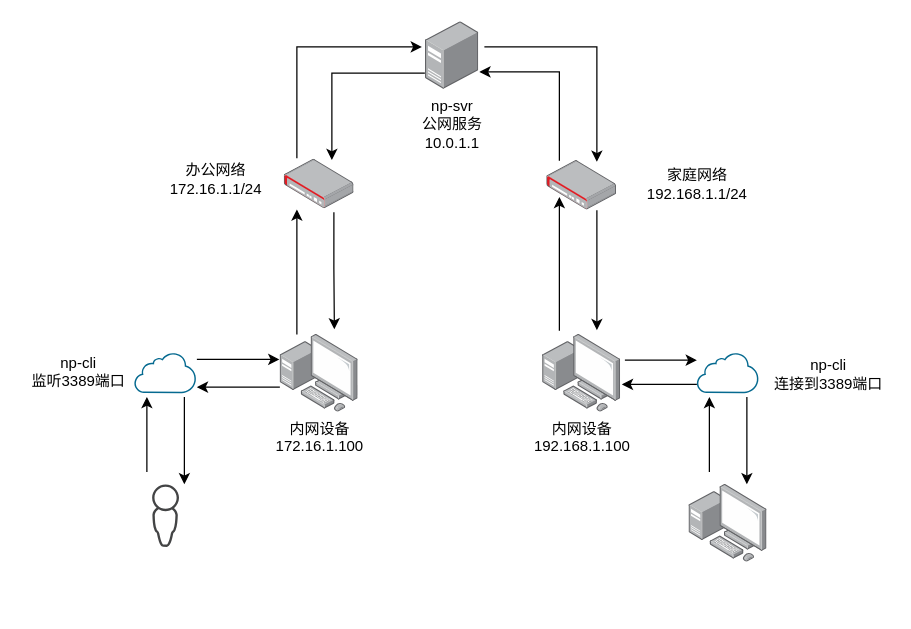
This 911x629 diagram has some shape labels left out. Each missing label, with the centre of its shape:
rdp客户端: the point at 165,515
内网设备 192.168.1.101: the point at 727,523
